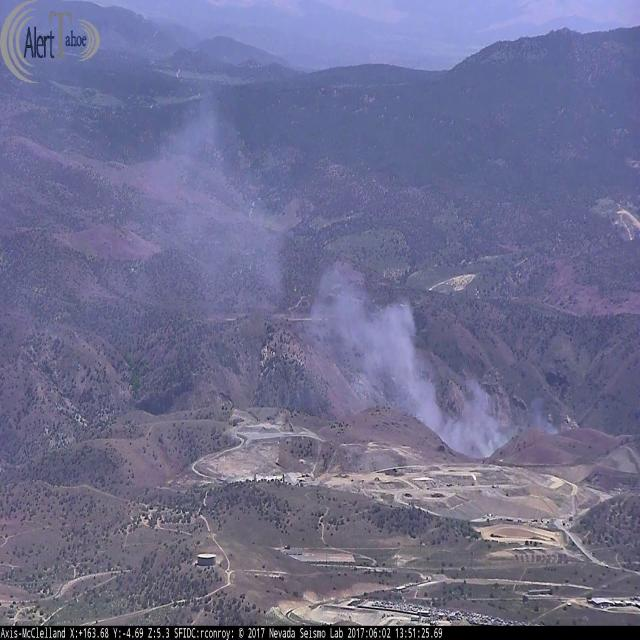smoke: (143, 82, 561, 466)
